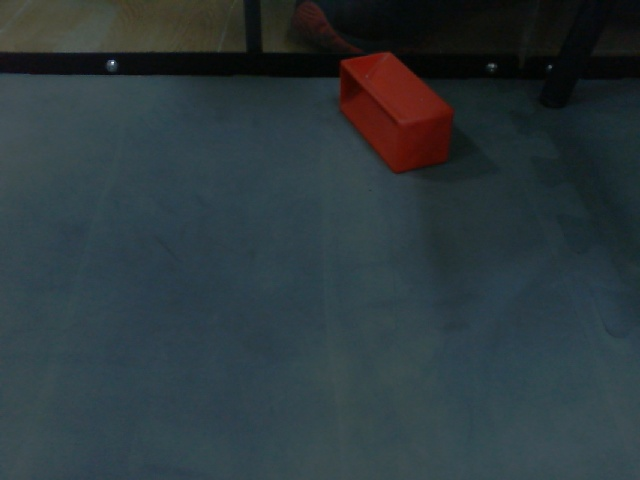RedSample: (336, 48, 455, 177)
